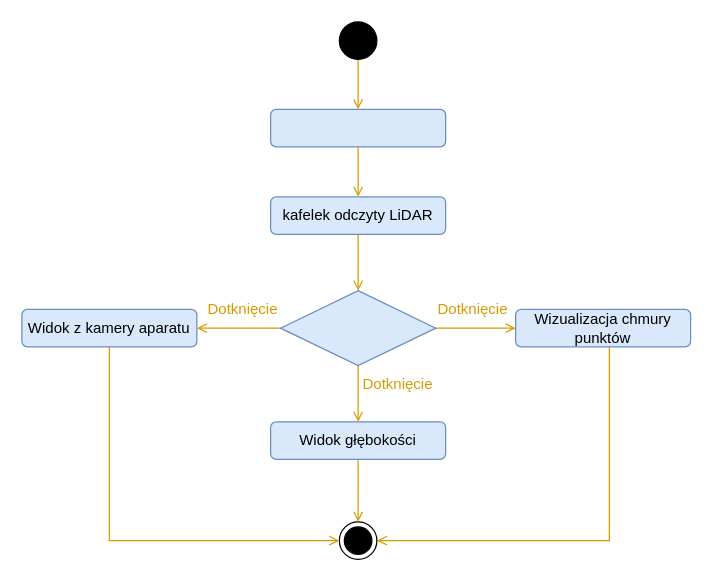
This 713x581 diagram has some shape labels left out. The centre of each missing label's shape, as x and y in pixels:
"Jaki widok?" goes at pixel 357 327.
"przycisk powitalnego ekranu" goes at pixel 357 127.
